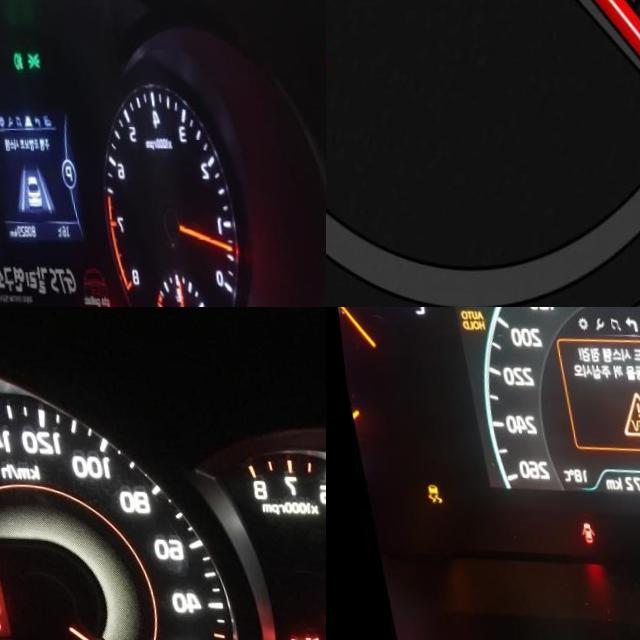Doors: (570, 516, 586, 540)
FrontFogLight: (9, 45, 21, 67)
SideLamp: (23, 45, 38, 64)
